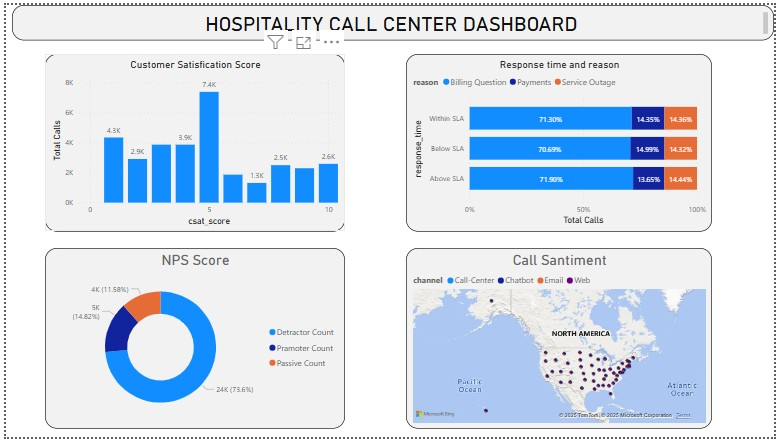

The dashboard page shown, as its layout file describes it:
{"tool":"powerbi","page":{"name":"Page 2","canvas":[1280,720],"ordinal":1},"visuals":[{"type":"textbox","box":[10.2,0,1270.2,58.5],"z":0},{"type":"donutChart","title":"NPS Score","fields":{"Y":["Calls Based on.Detractor Count","Calls Based on.Pramoter Count","Calls Based on.Passive Count"]},"box":[65.7,404.3,500,301.4],"z":7000},{"type":"map","title":"Call Santiment","fields":{"Category":["Hospitality call center data.state","Hospitality call center data.city"],"Series":["Hospitality call center data.channel"]},"box":[667.1,404.3,510,301.4],"z":8000},{"type":"clusteredColumnChart","title":"Customer Satisfication Score  ","fields":{"Category":["Hospitality call center data.csat_score"],"Y":["Hospitality call center data.Total Calls"]},"box":[65.7,81.4,500,295.7],"z":10000},{"type":"hundredPercentStackedBarChart","title":"Response time and reason","fields":{"Series":["Hospitality call center data.reason"],"Category":["Hospitality call center data.response_time"],"Y":["Hospitality call center data.Total Calls"]},"box":[667.1,81.4,510,295.7],"z":11000}]}

Visuals, with their boxes in screenshot pixels (x1, y1, x2, y2), scaled from the page's 1280x720 canvas onto the 780x443 screenshot:
textbox: box=[6, 0, 779, 36]
"NPS Score" donutChart: box=[40, 249, 345, 434]
"Call Santiment" map: box=[407, 249, 717, 434]
"Customer Satisfication Score  " clusteredColumnChart: box=[40, 50, 345, 232]
"Response time and reason" hundredPercentStackedBarChart: box=[407, 50, 717, 232]
